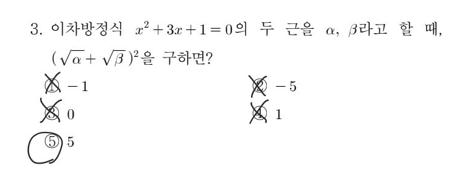1: (23, 129, 65, 166)
paper: (42, 76, 63, 97), (40, 102, 61, 123), (41, 132, 62, 153), (250, 103, 270, 124), (249, 75, 269, 96)
